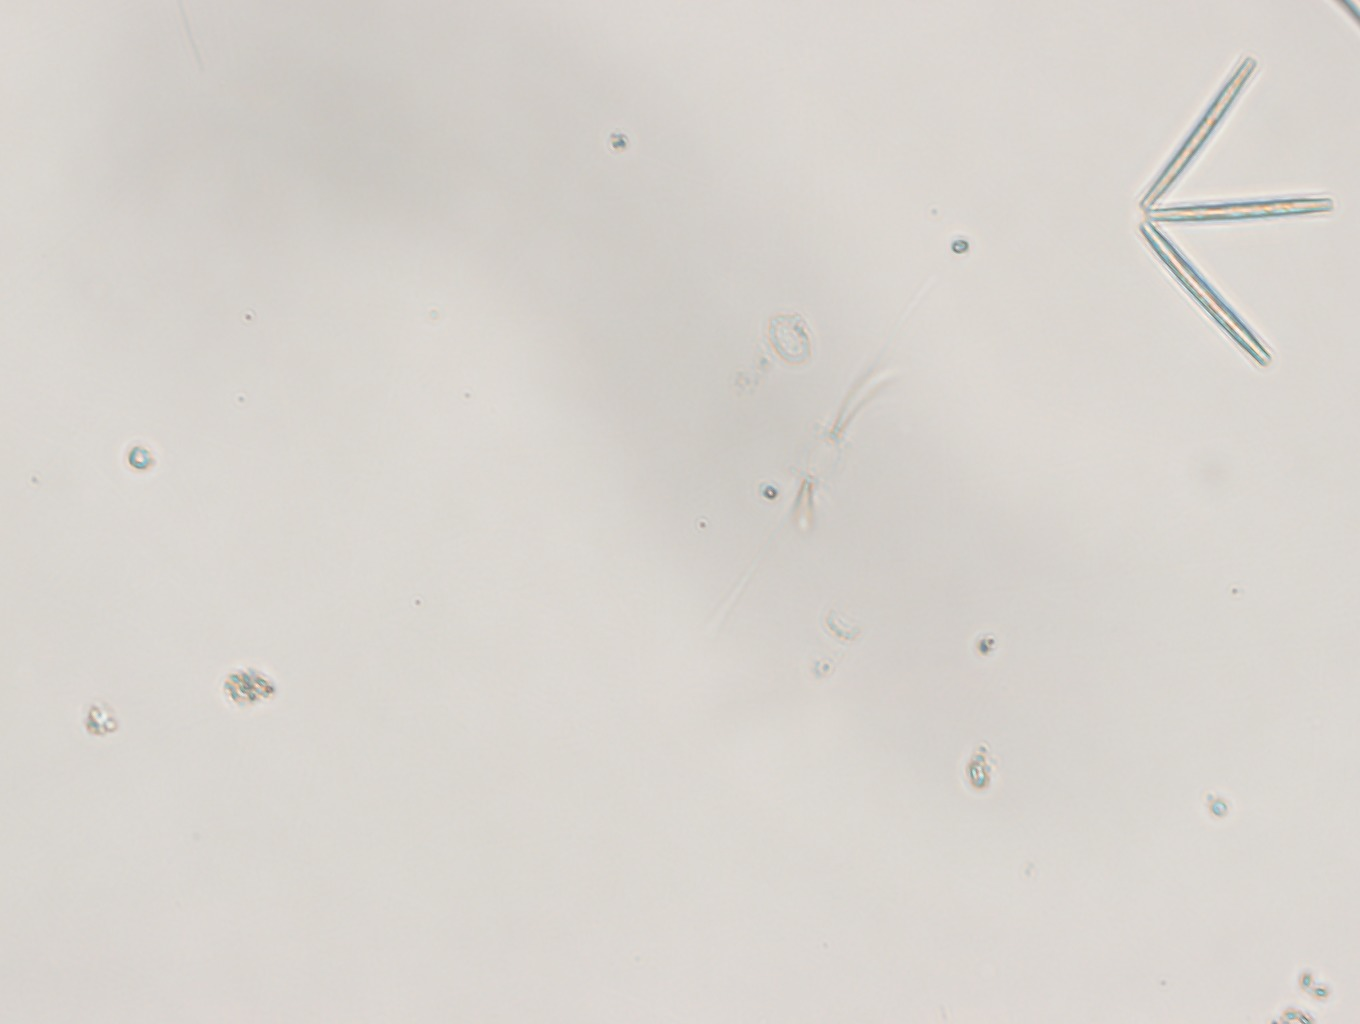thalassionema frauenfeldii: (1131, 37, 1341, 383)
